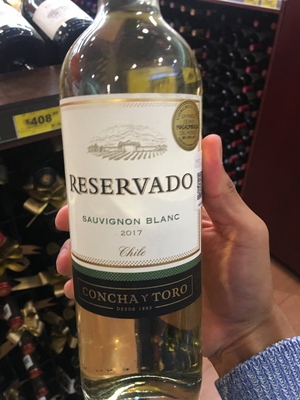reservado sauvignon blanc: (63, 10, 211, 400)
